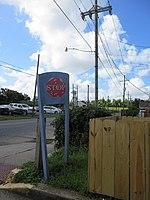Stop: (27, 64, 82, 124)
